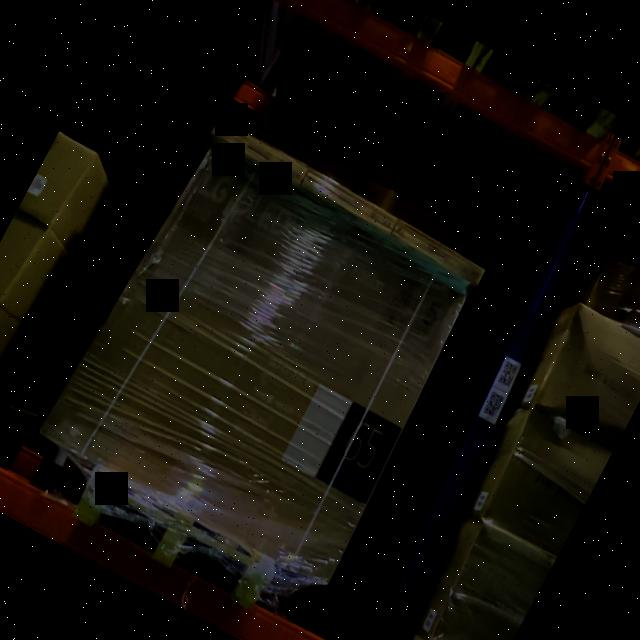box: (70, 164, 464, 565), (479, 412, 612, 556), (418, 523, 550, 640), (533, 307, 640, 447), (210, 118, 313, 190), (298, 166, 400, 236), (390, 221, 489, 287), (584, 244, 640, 344)
